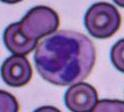N: (35, 30, 95, 85)
